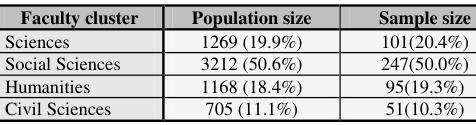table: (3, 3, 469, 119)
table column: (164, 3, 344, 119), (3, 3, 164, 119), (344, 3, 469, 119)
table column header: (3, 3, 469, 28)
table row: (3, 3, 469, 28), (3, 95, 469, 119), (3, 50, 469, 73), (3, 28, 469, 50), (3, 73, 469, 95)
